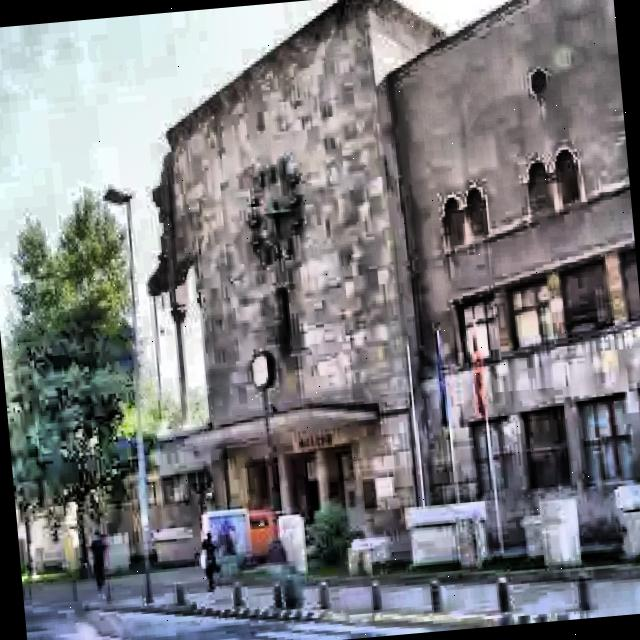old railway: (140, 0, 640, 574)
